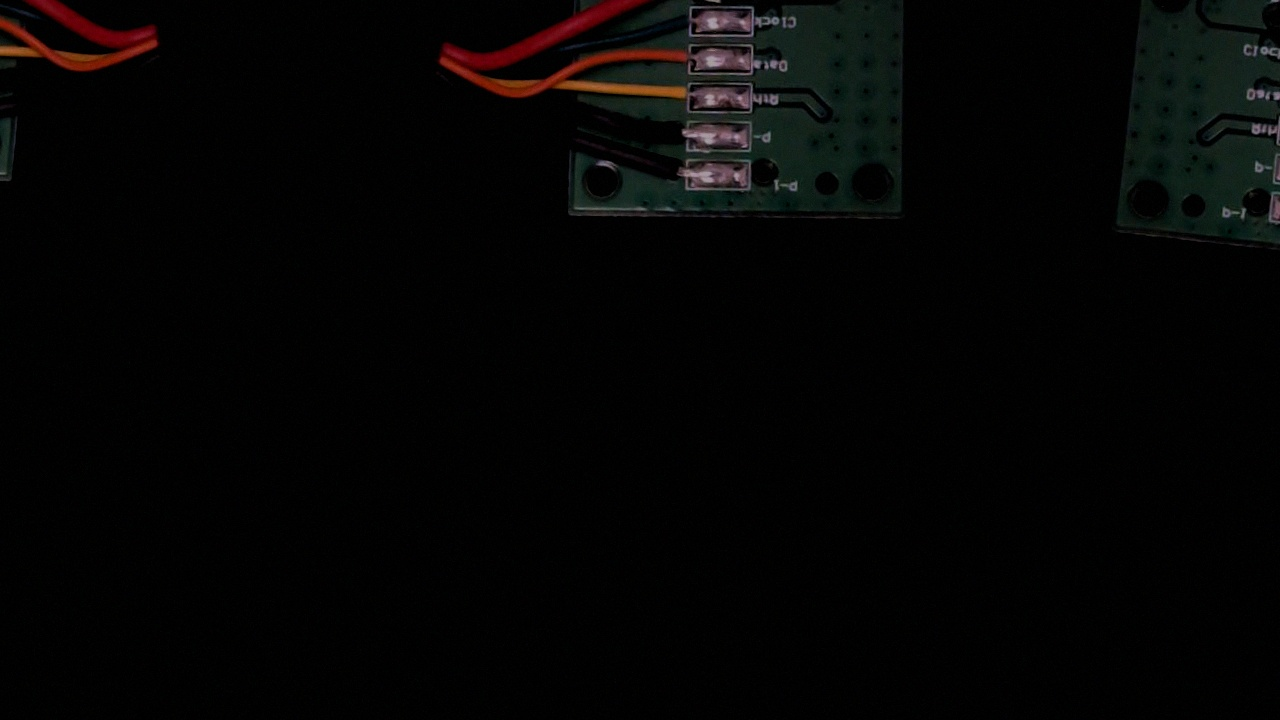Black: (638, 116, 713, 154)
Black1: (640, 155, 709, 192)
Green: (641, 1, 713, 39)
Orange: (641, 40, 714, 76)
Red: (641, 0, 713, 1)
Yellow: (636, 73, 712, 112)
